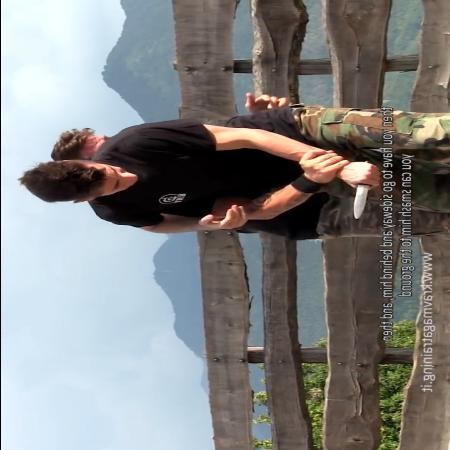long weapon: (340, 160, 384, 225)
